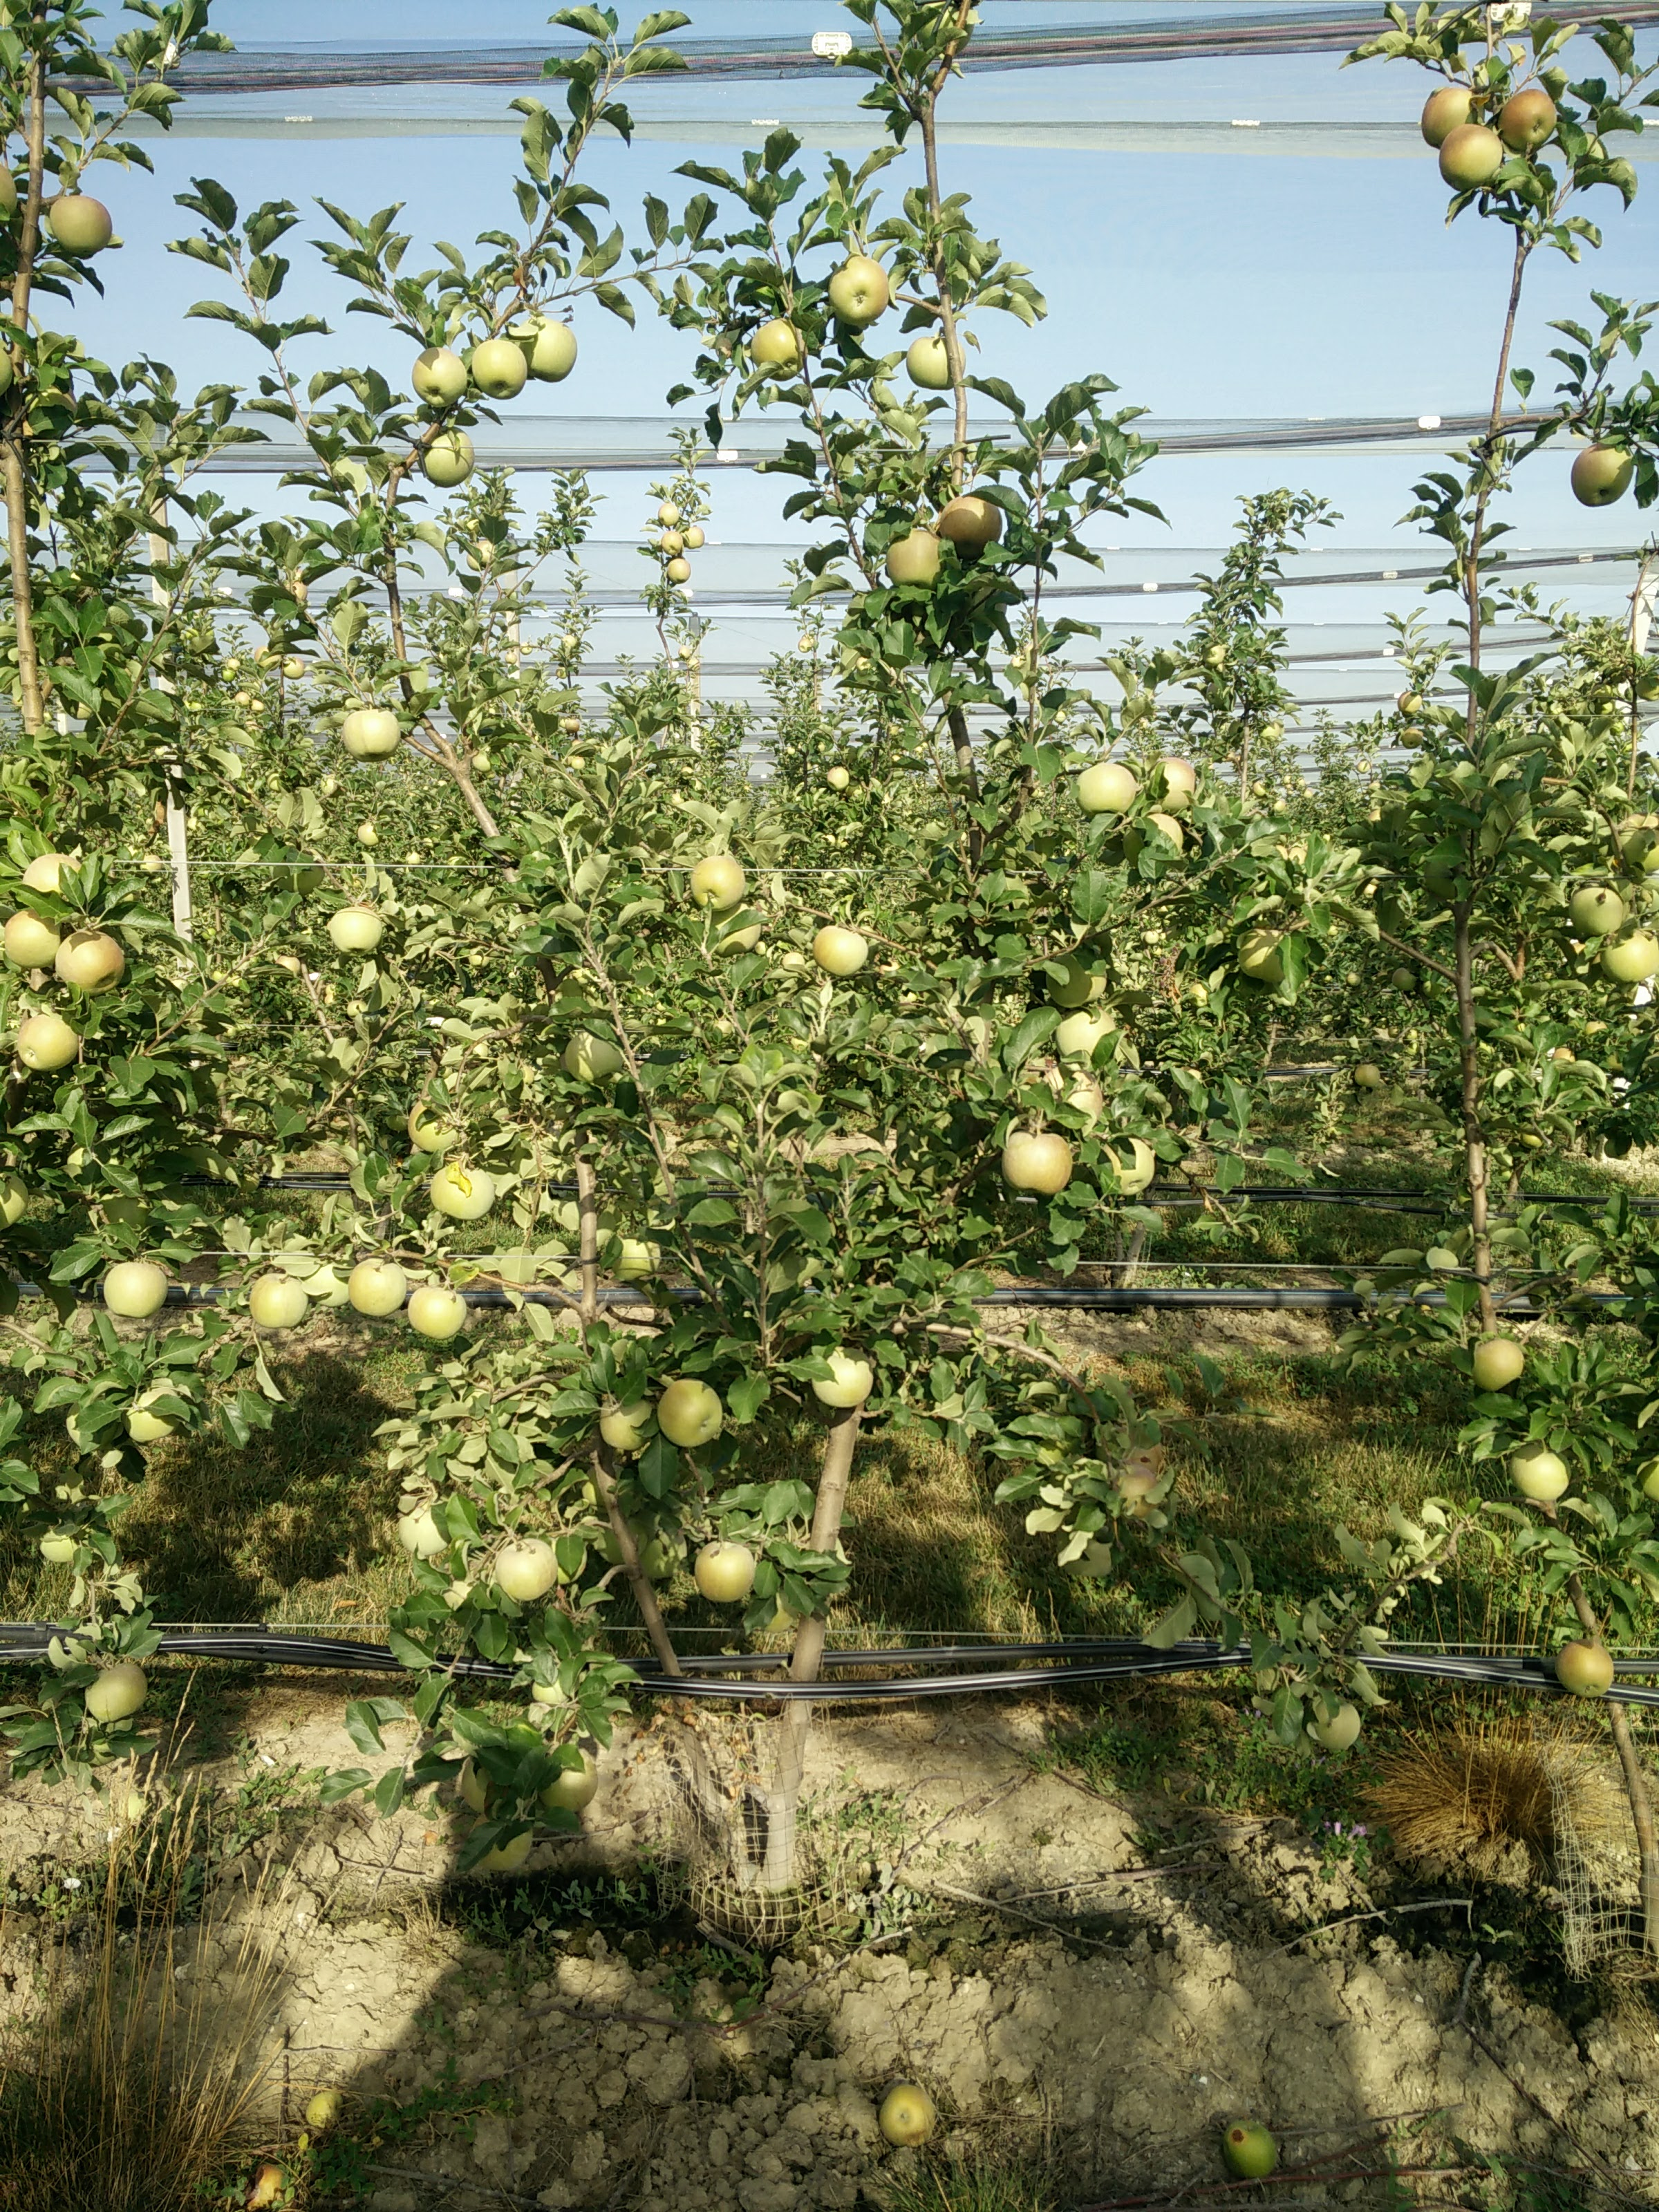apple: (656, 1379, 724, 1450), (1436, 118, 1506, 189), (1569, 441, 1638, 510), (55, 929, 129, 994), (938, 491, 1006, 559), (1003, 1128, 1072, 1197), (539, 1745, 601, 1816), (1504, 1439, 1571, 1504), (496, 1538, 561, 1606), (805, 1345, 874, 1407), (411, 344, 474, 411), (822, 259, 889, 320), (885, 530, 949, 592), (517, 319, 579, 384), (693, 1544, 758, 1603), (12, 1011, 80, 1067), (80, 1665, 149, 1721), (339, 708, 405, 766), (427, 1162, 496, 1217), (811, 913, 871, 973), (1597, 927, 1658, 987), (1074, 756, 1136, 815), (248, 1272, 310, 1329), (103, 1261, 167, 1317), (1423, 84, 1478, 149), (1494, 88, 1554, 147), (906, 332, 970, 387), (48, 196, 106, 256), (751, 320, 809, 379), (406, 1287, 467, 1343), (688, 854, 745, 912), (348, 1261, 405, 1320), (473, 337, 525, 398), (323, 903, 387, 953), (1566, 885, 1631, 934), (1558, 1642, 1616, 1697), (1145, 756, 1205, 809), (420, 428, 475, 482), (598, 1397, 656, 1450), (1472, 1338, 1524, 1387)
